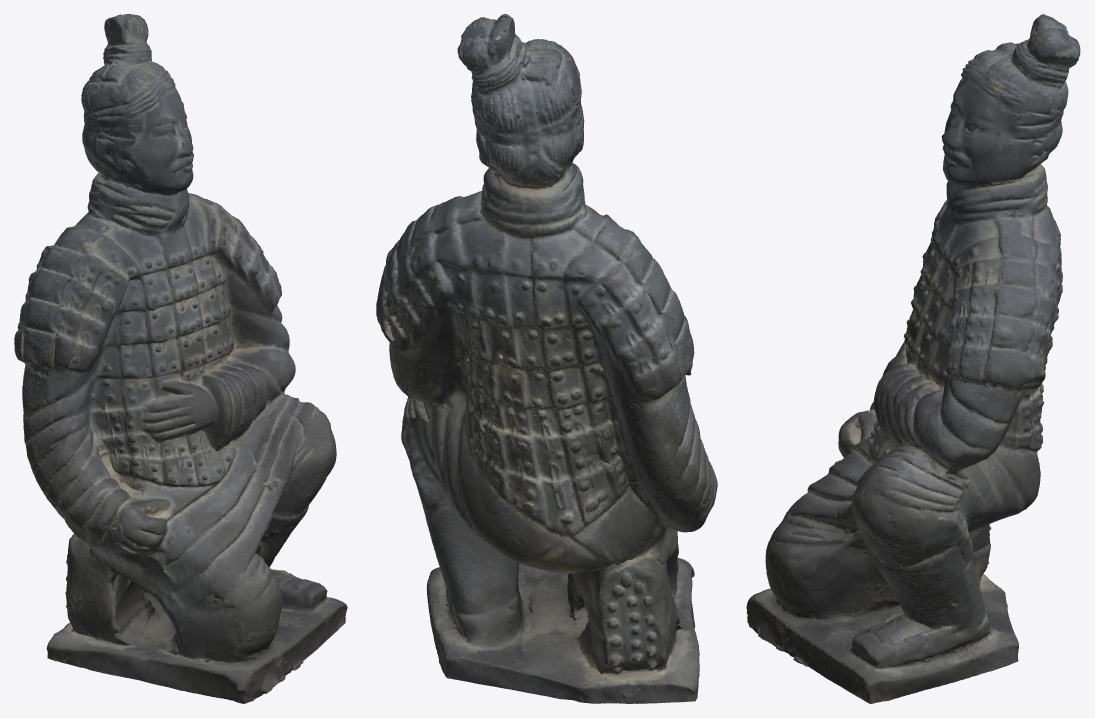
File: terracotta-army.glb
3 views of the same model, side by side, from view 1: azimuth 30°, elevation 25°; view 2: azimuth 150°, elevation 25°; view 3: azimuth 270°, elevation 25° (orthographic). The views are drawn at different scales.
Parts seen in each view (by area): view 1: Object_3; view 2: Object_3; view 3: Object_3.
Part boxes in pixels (x1,y1,x2,y2): Object_3: [14, 14, 347, 703]; Object_3: [376, 14, 717, 703]; Object_3: [746, 14, 1080, 703].
Size of the model in its own units: 25.08 by 51.99 by 25.58.
Materials: 2 (2 with a texture image).
